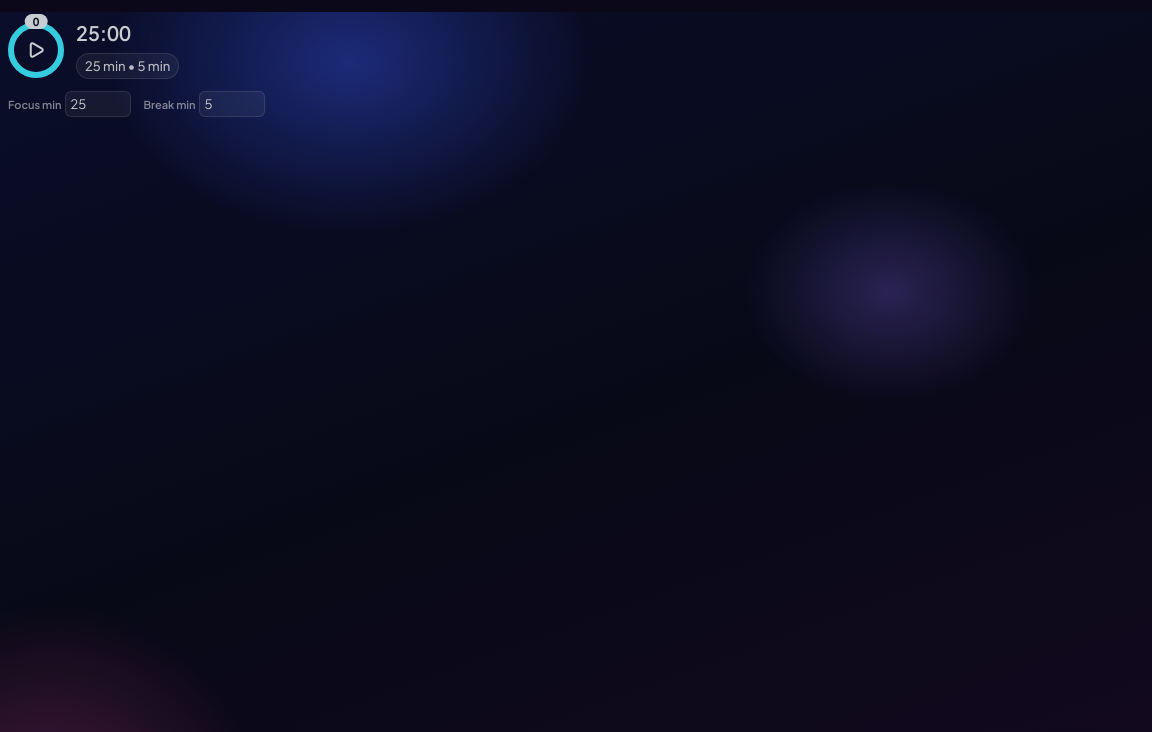
Test case: FocusWidget › applies duration settings
Replace the text in the number field named "Focus minutes" with "50" at [98, 104], box [65,91,131,117]
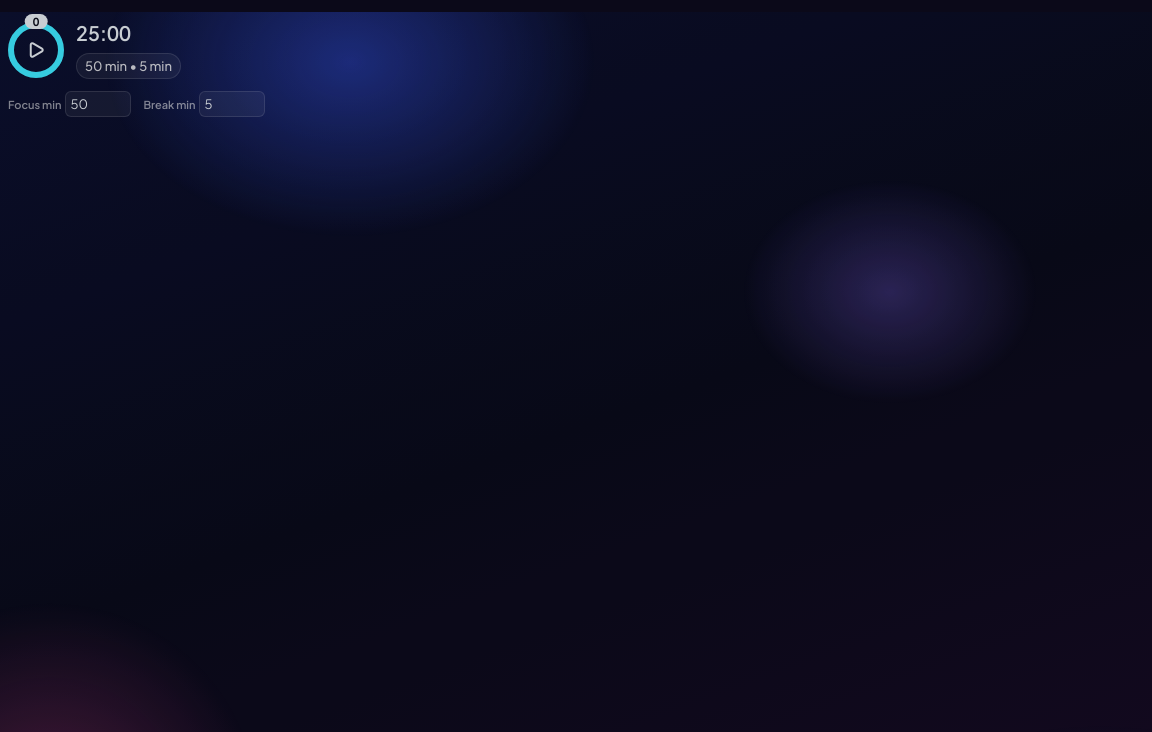
Replace the text in the number field named "Break minutes" with "10" at [232, 104], box [199,91,265,117]
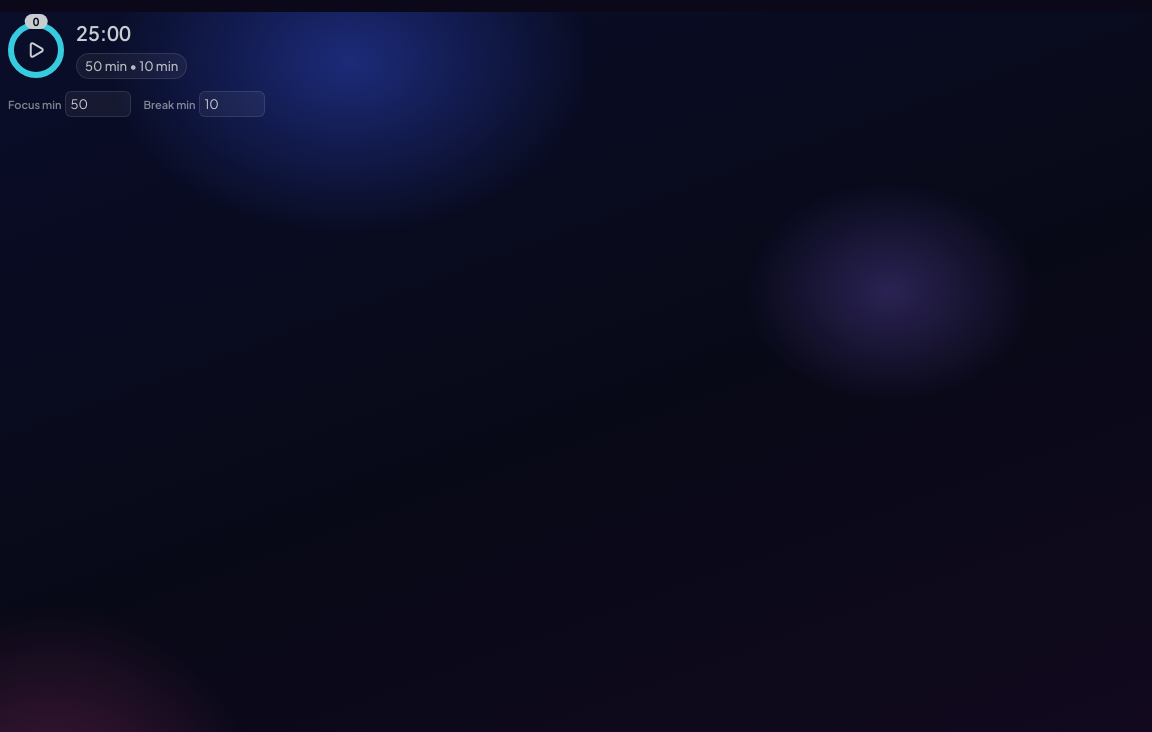
Click the button named "Start focus".
click(36, 50)  # box [14,28,58,72]
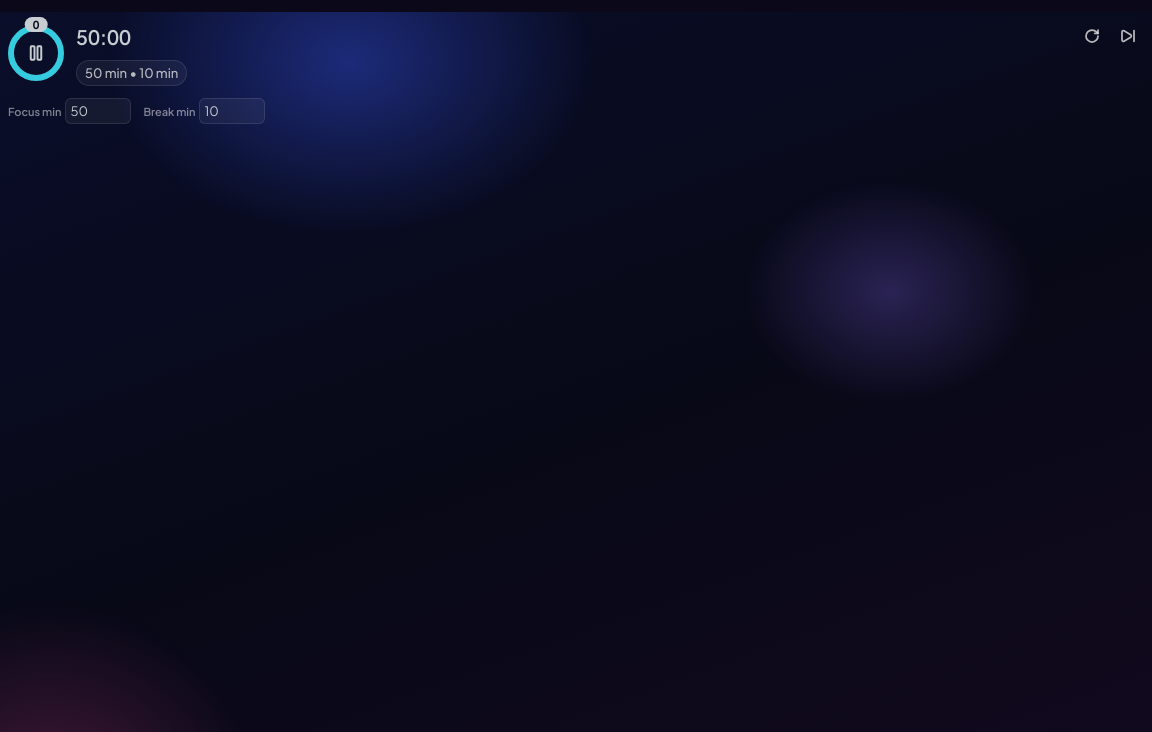
Expected: the text with test id "focus-clock" reads "50:00", [76,24,131,48]
